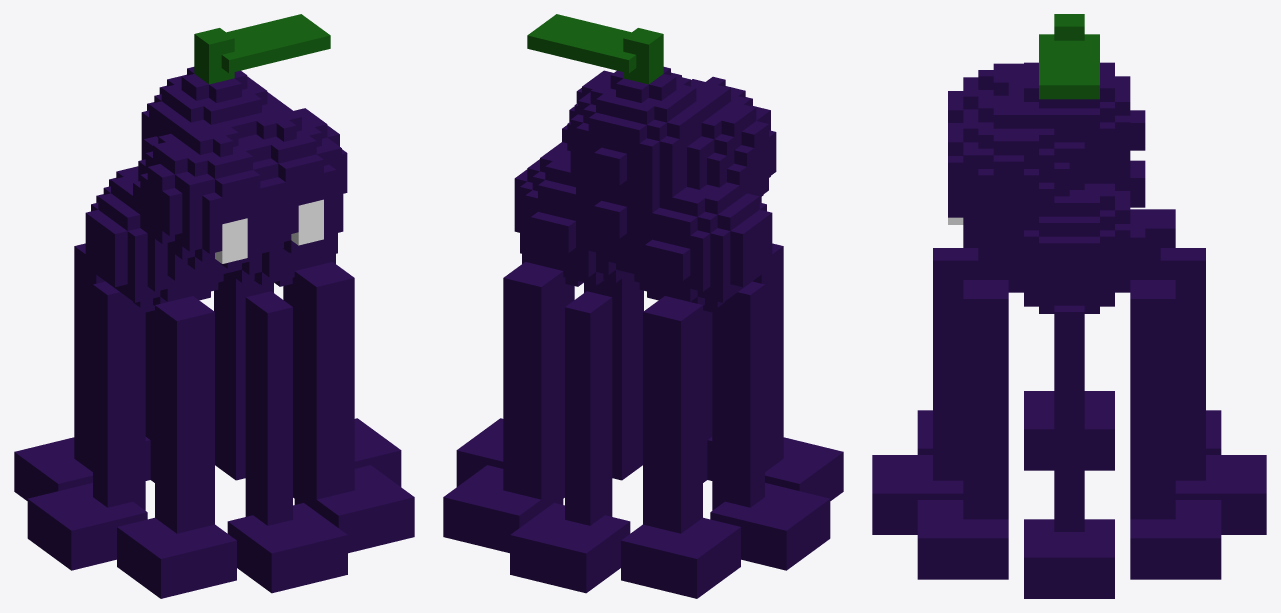
The model's file is graipuss_medussi.glb.
3 views of the same model, side by side, from view 1: azimuth 30°, elevation 25°; view 2: azimuth 150°, elevation 25°; view 3: azimuth 270°, elevation 25° (orthographic). The views are drawn at different scales.
Visible parts, largest first — view 1: brainrot; view 2: brainrot; view 3: brainrot.
Boxes of the visible parts, x1,y1,x2,y2 form: brainrot: (14, 14, 414, 598); brainrot: (443, 14, 843, 598); brainrot: (872, 14, 1266, 598).
Bounding box in the file's own units: 3.61 × 5 × 3.61.
Materials: 1 (1 with a texture image).
